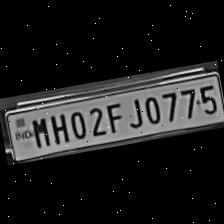0: (139, 90, 164, 124), (65, 106, 88, 140)
2: (84, 102, 106, 136)
5: (192, 79, 219, 116)
7: (158, 86, 181, 122), (176, 84, 198, 119)
F: (101, 98, 124, 134)
H: (46, 109, 69, 145)
J: (121, 94, 143, 129)
M: (27, 112, 51, 148)
